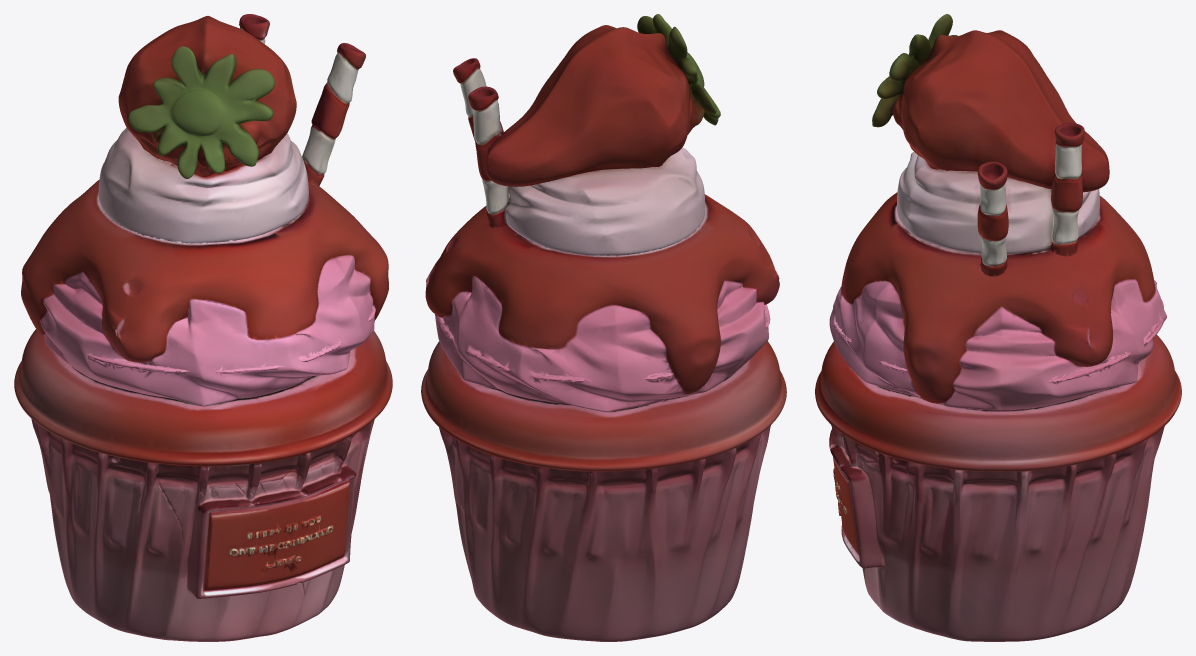
File: perfume.glb
3 renders of one model, left to right at view 1: azimuth 30°, elevation 25°; view 2: azimuth 150°, elevation 25°; view 3: azimuth 270°, elevation 25°, orthographic. The views are drawn at different scales.
Visible parts, largest first — view 1: tripo_node_15718fcf-2c49-4eb7-9661-331df2eadd86; view 2: tripo_node_15718fcf-2c49-4eb7-9661-331df2eadd86; view 3: tripo_node_15718fcf-2c49-4eb7-9661-331df2eadd86.
Part boxes in pixels (left/top/right/bottom): tripo_node_15718fcf-2c49-4eb7-9661-331df2eadd86: left=14, top=14, right=392, bottom=641; tripo_node_15718fcf-2c49-4eb7-9661-331df2eadd86: left=421, top=14, right=786, bottom=641; tripo_node_15718fcf-2c49-4eb7-9661-331df2eadd86: left=815, top=14, right=1181, bottom=641.
Bounding box in the file's own units: 0.5851 × 0.9789 × 0.5864.
1 material, 1 textured.
